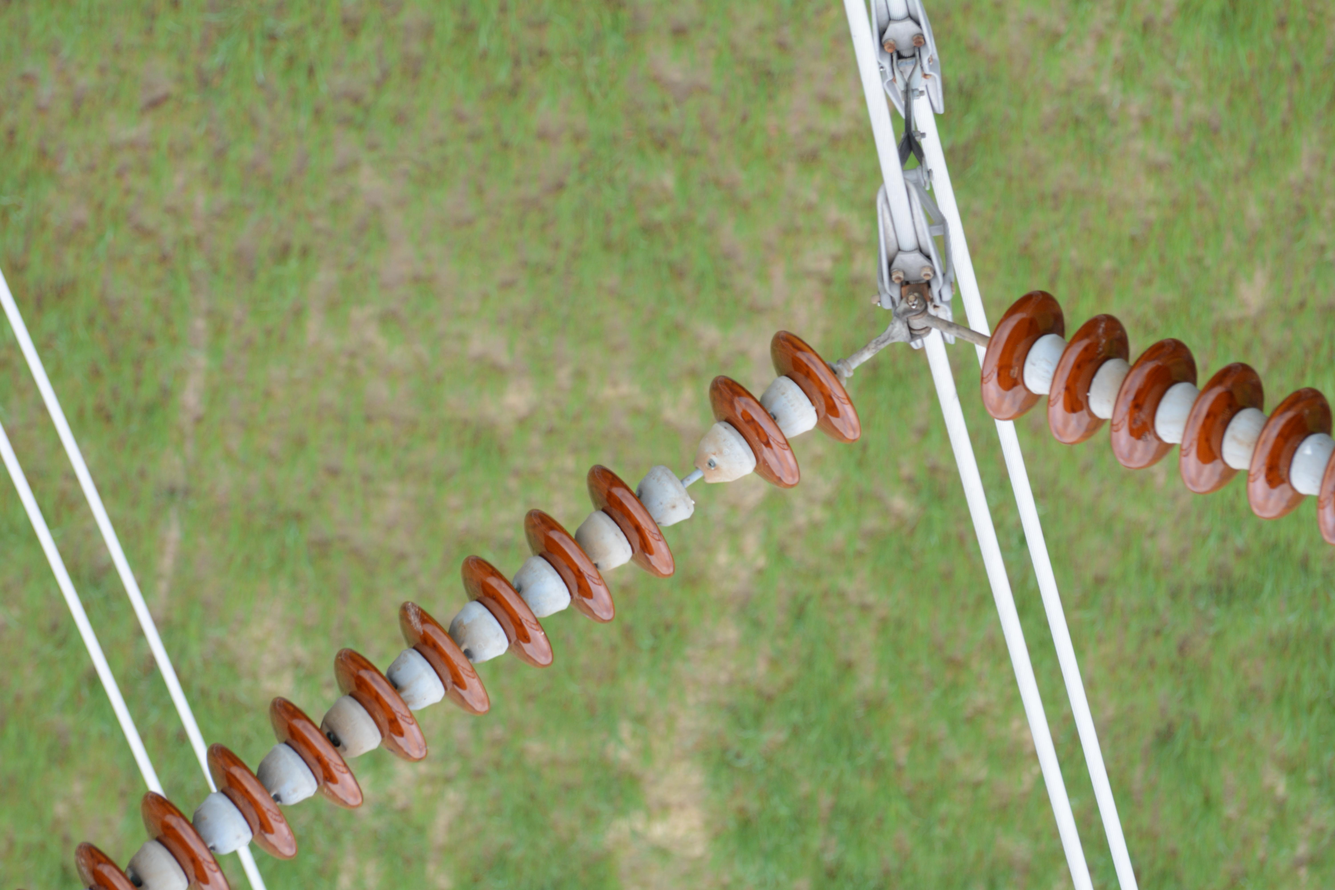damaged: (634, 423, 746, 513)
insulator: (75, 323, 864, 890), (986, 288, 1335, 537)
